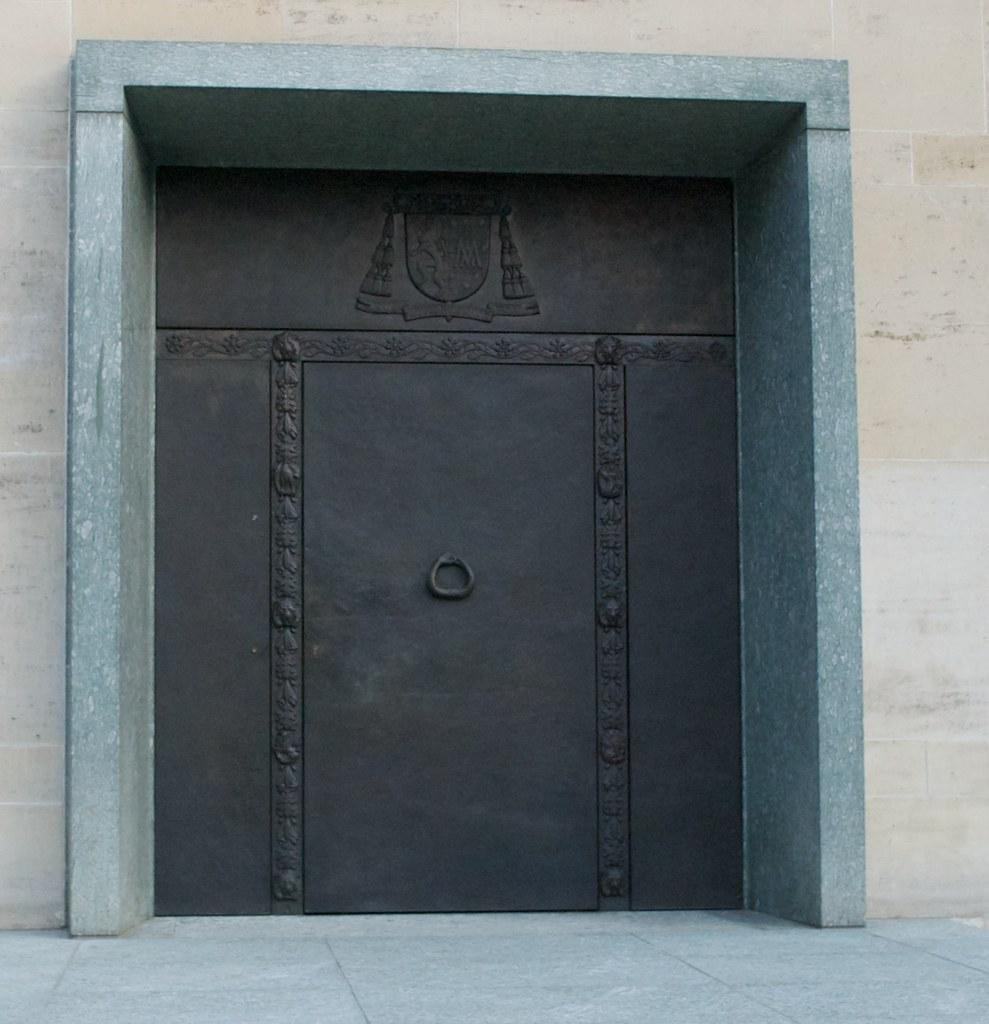door: (298, 353, 602, 914)
